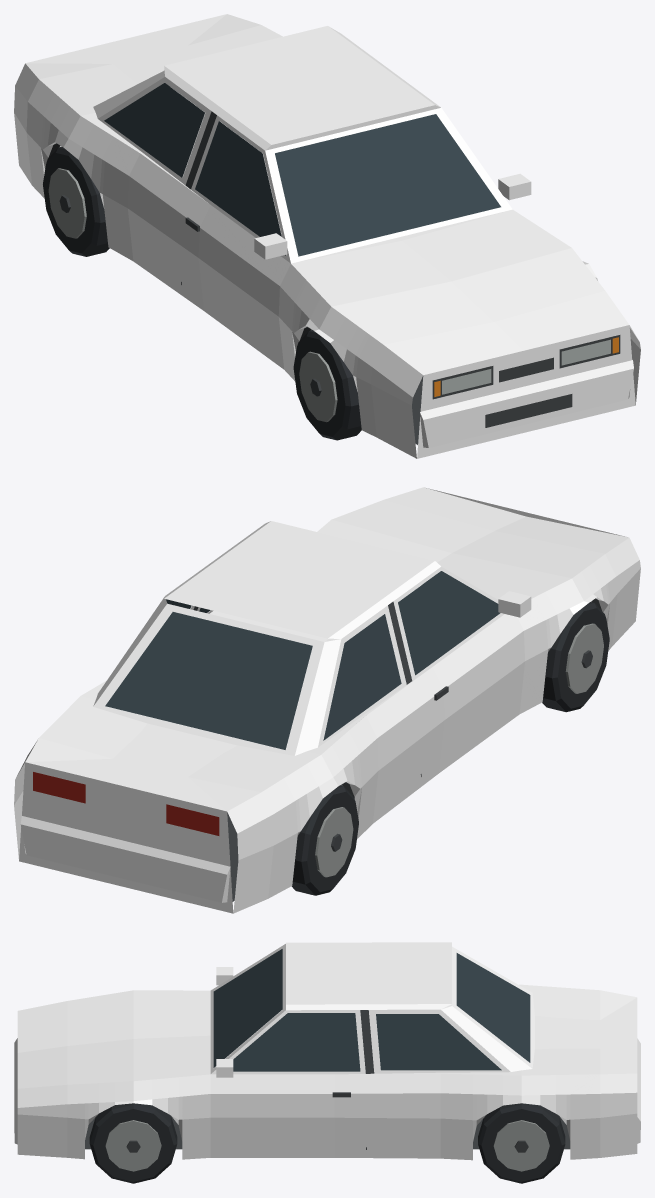
File: hayase_homura.glb
3 renders of one model, top to bottom at view 1: azimuth 30°, elevation 25°; view 2: azimuth 150°, elevation 25°; view 3: azimuth 270°, elevation 25°, orthographic. The views are drawn at different scales.
Parts seen in each view (by area): view 1: hayase_homura; view 2: hayase_homura; view 3: hayase_homura.
Part boxes in pixels (box(x1,y1,x2,y2)): hayase_homura: box(14, 14, 640, 458); hayase_homura: box(14, 487, 640, 913); hayase_homura: box(14, 942, 640, 1183).
Size of the model in its own units: 1.74 by 1.27 by 4.44.
Materials: 8 (1 with a texture image).
